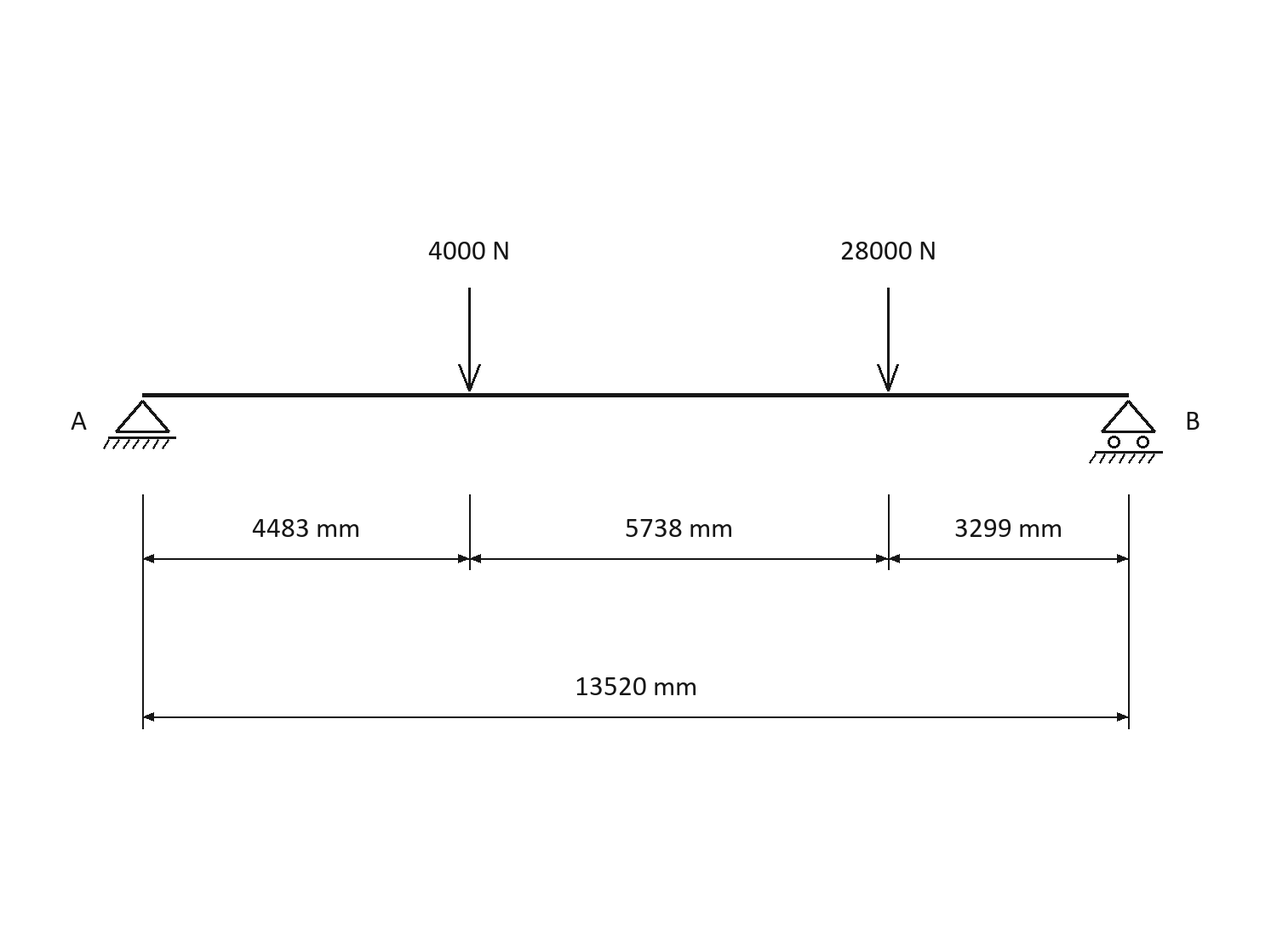pin_support: (103, 400, 176, 449)
point_load: (458, 288, 481, 391), (877, 288, 899, 391)
roller_support: (1089, 400, 1163, 464)
